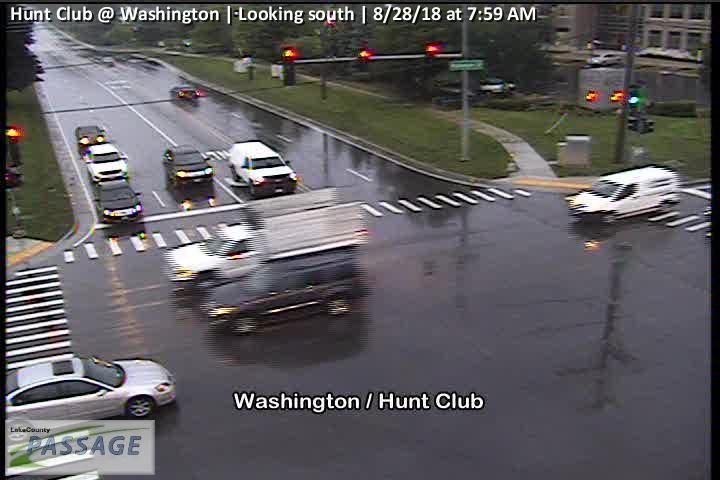SUV: (202, 250, 365, 336), (564, 167, 682, 222), (228, 142, 297, 195), (85, 145, 128, 182)
Sedan: (1, 355, 176, 451), (94, 180, 142, 225), (163, 145, 212, 185), (76, 125, 103, 144), (171, 84, 200, 100)
Truck: (163, 188, 372, 280)
